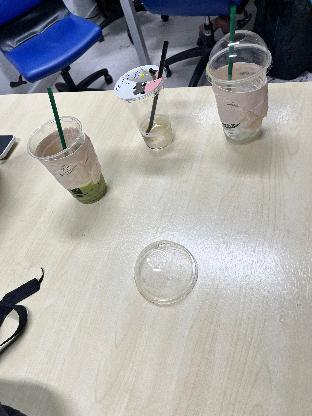Plastic Cup: (26, 116, 108, 204), (205, 46, 275, 146), (116, 62, 176, 150), (131, 230, 197, 307), (207, 32, 274, 84)
